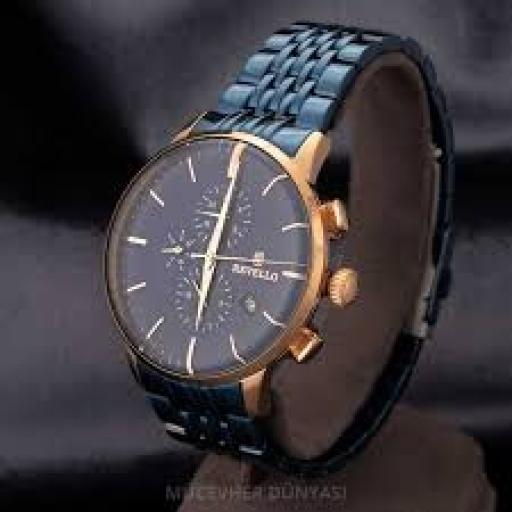KolSaati: (56, 7, 466, 486)
